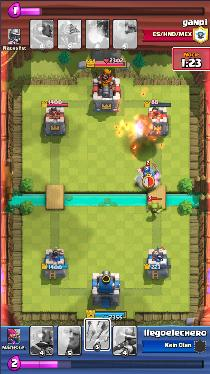ally_fireball: (120, 118, 157, 149)
ally_goblin_cage: (146, 202, 162, 215)
enemy_knight: (139, 165, 155, 175)
